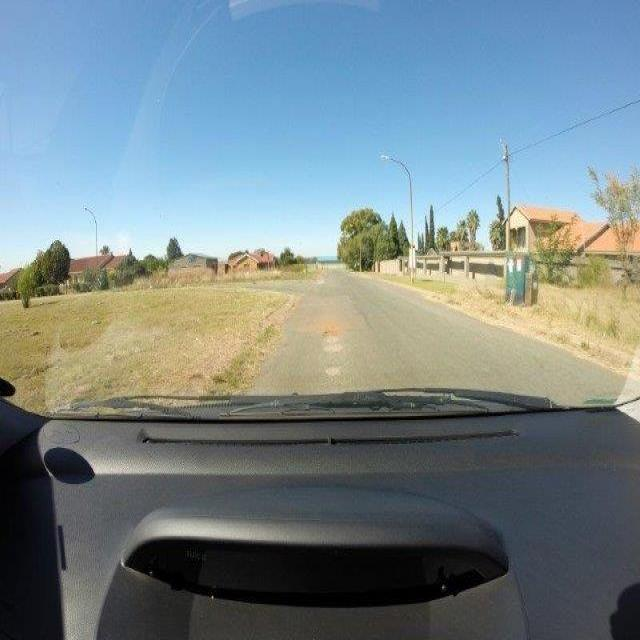jalan retak: (340, 286, 381, 332)
lubang: (319, 336, 345, 354), (322, 360, 346, 377), (320, 326, 339, 340)
